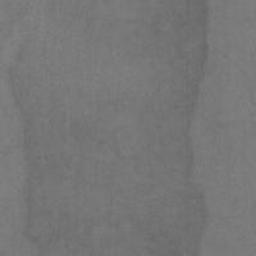Water spot: (0, 0, 210, 256)
